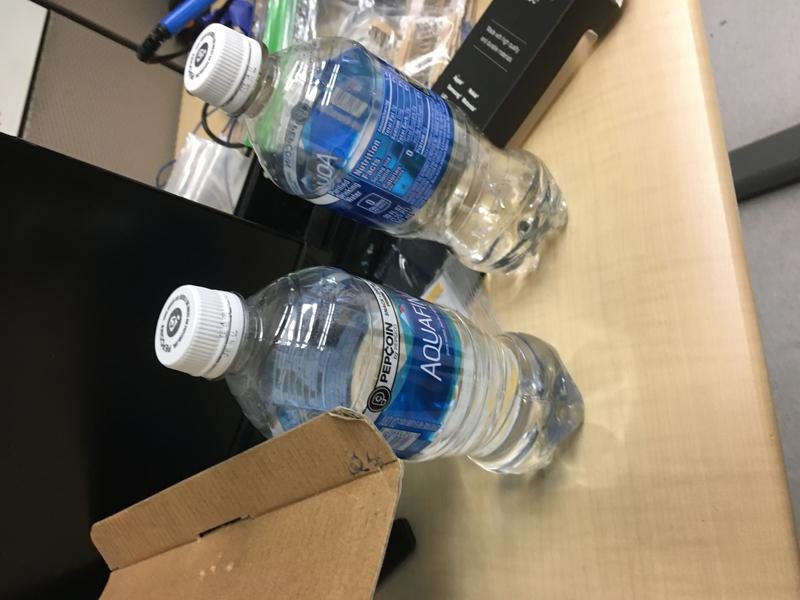bottle: (180, 20, 570, 282), (152, 263, 586, 480)
